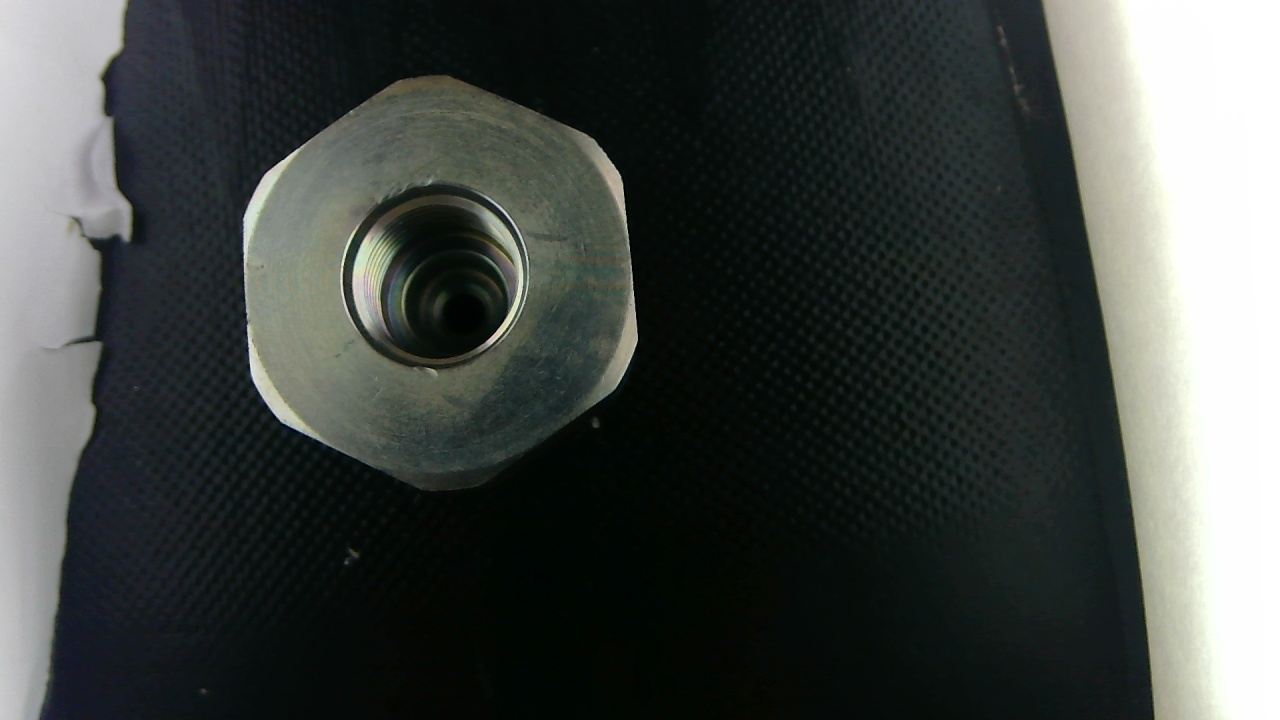Capnut_Surface_Dent: (372, 174, 438, 207)
